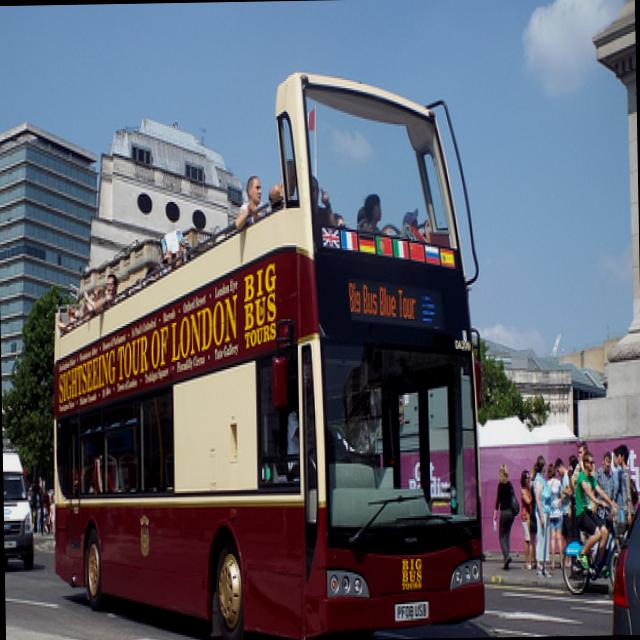Vehicle: (42, 66, 486, 640), (600, 447, 640, 634), (562, 503, 626, 593), (2, 444, 33, 570)
